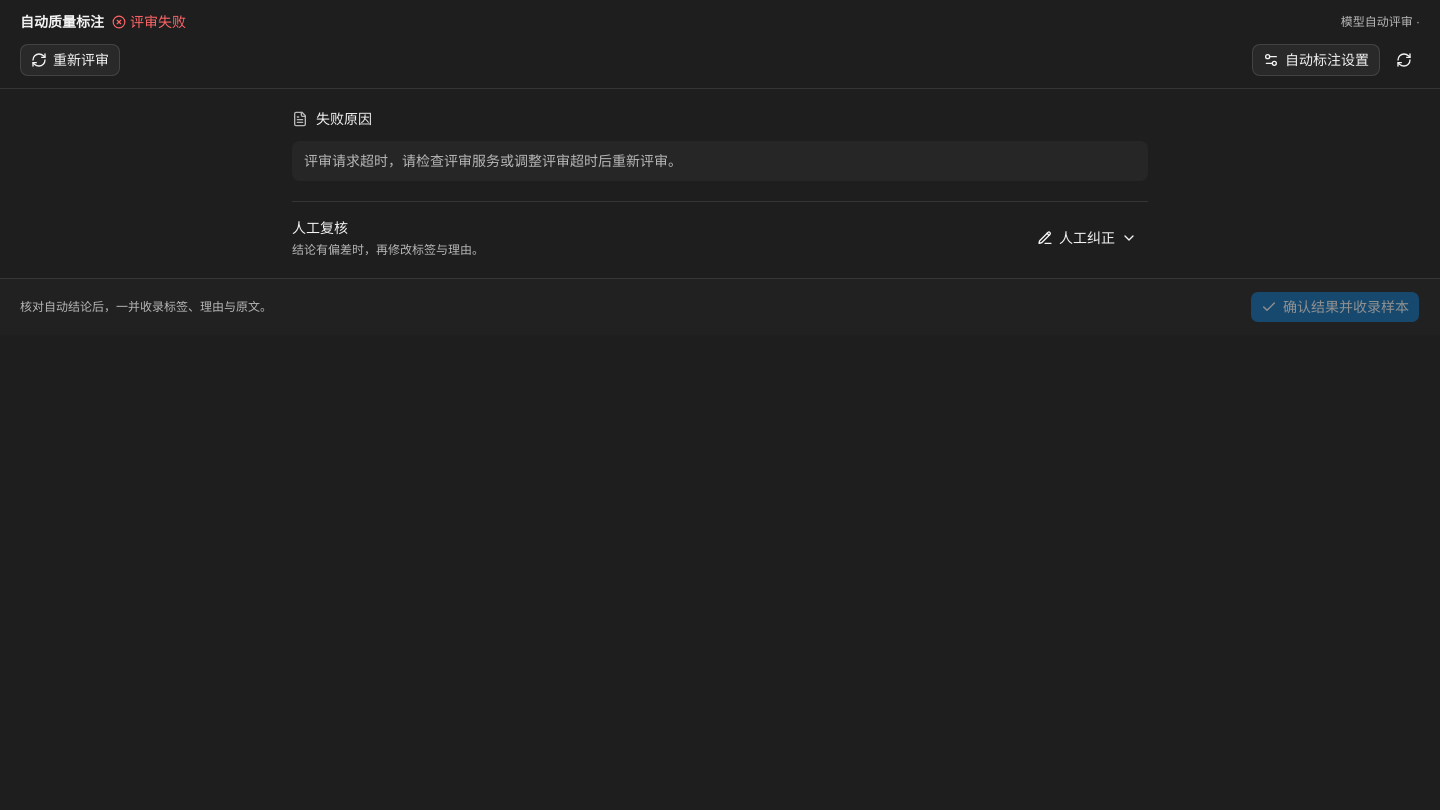
Test: 自动评审超时显示失败原因，重新评审成功后更新为正常且不重新生成动画
The image size is (1440, 810).
Expected: the element named "自动质量：评审失败" is shown, [112,12,186,32]
Expected: the heading "失败原因" is shown, [292,111,372,127]
Click the button "重新评审" at (70, 60), box [20,44,120,76]
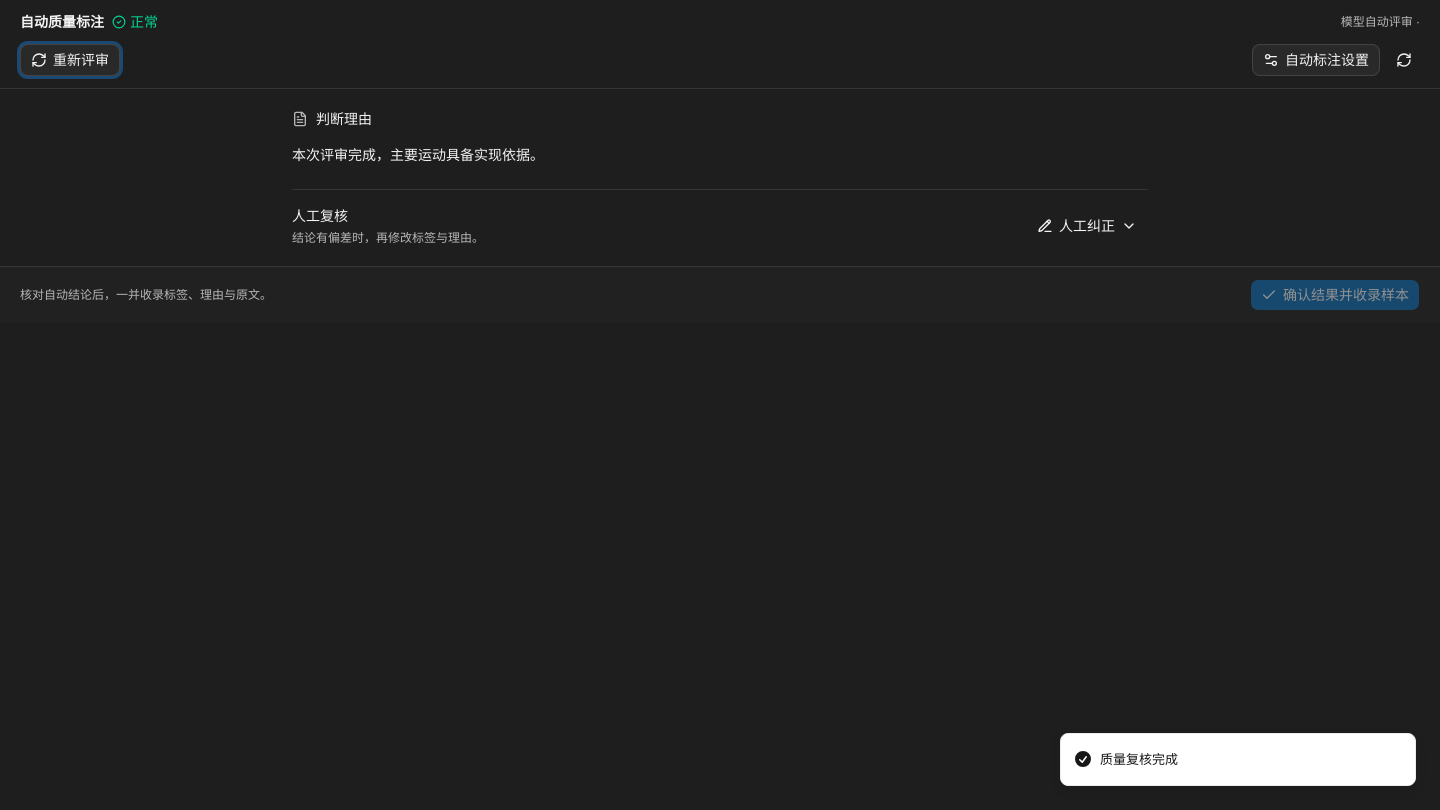
Expected: the element named "自动质量：正常" is shown, [112,12,158,32]
Expected: the heading "判断理由" is shown, [292,111,372,127]
